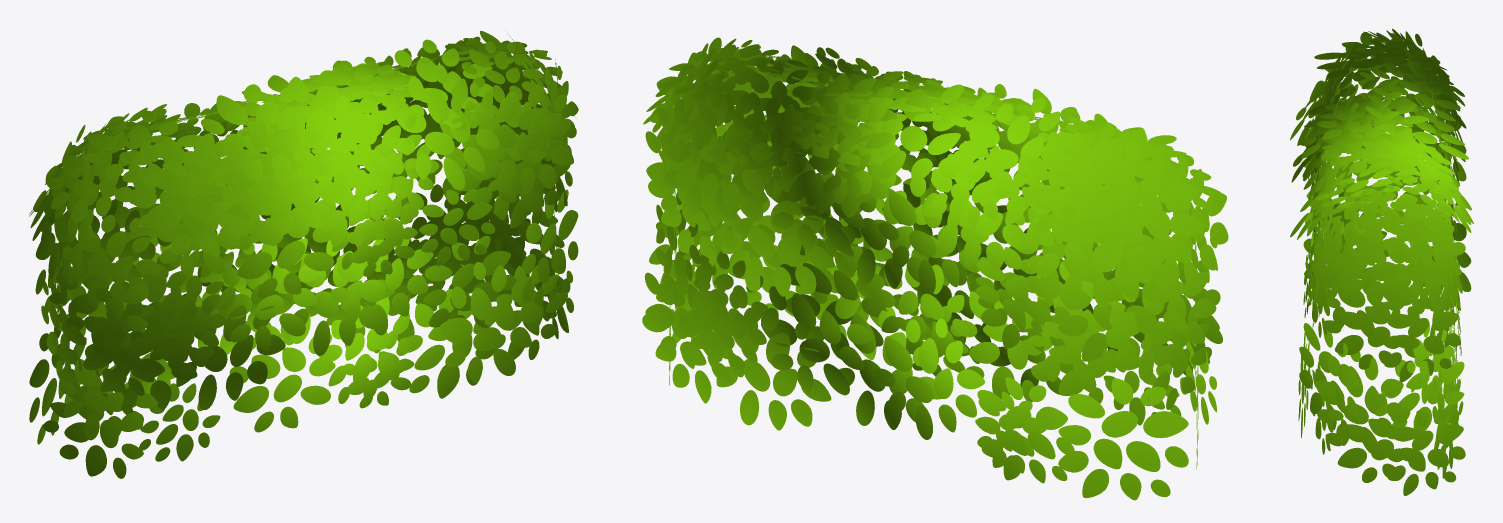
Rendered from bush_2.glb.
3 views of the same model, side by side, from view 1: azimuth 30°, elevation 25°; view 2: azimuth 150°, elevation 25°; view 3: azimuth 270°, elevation 25° (orthographic). The views are drawn at different scales.
Parts seen in each view (by area): view 1: Bush_Large; view 2: Bush_Large; view 3: Bush_Large.
Part boxes in pixels (x1=…): Bush_Large: x1=29, y1=31, x2=578, y2=478; Bush_Large: x1=642, y1=37, x2=1228, y2=500; Bush_Large: x1=1290, y1=28, x2=1473, y2=495.
Size of the model in its own units: 1.9 by 1.22 by 0.7238.
Materials: 1 (1 with a texture image).
